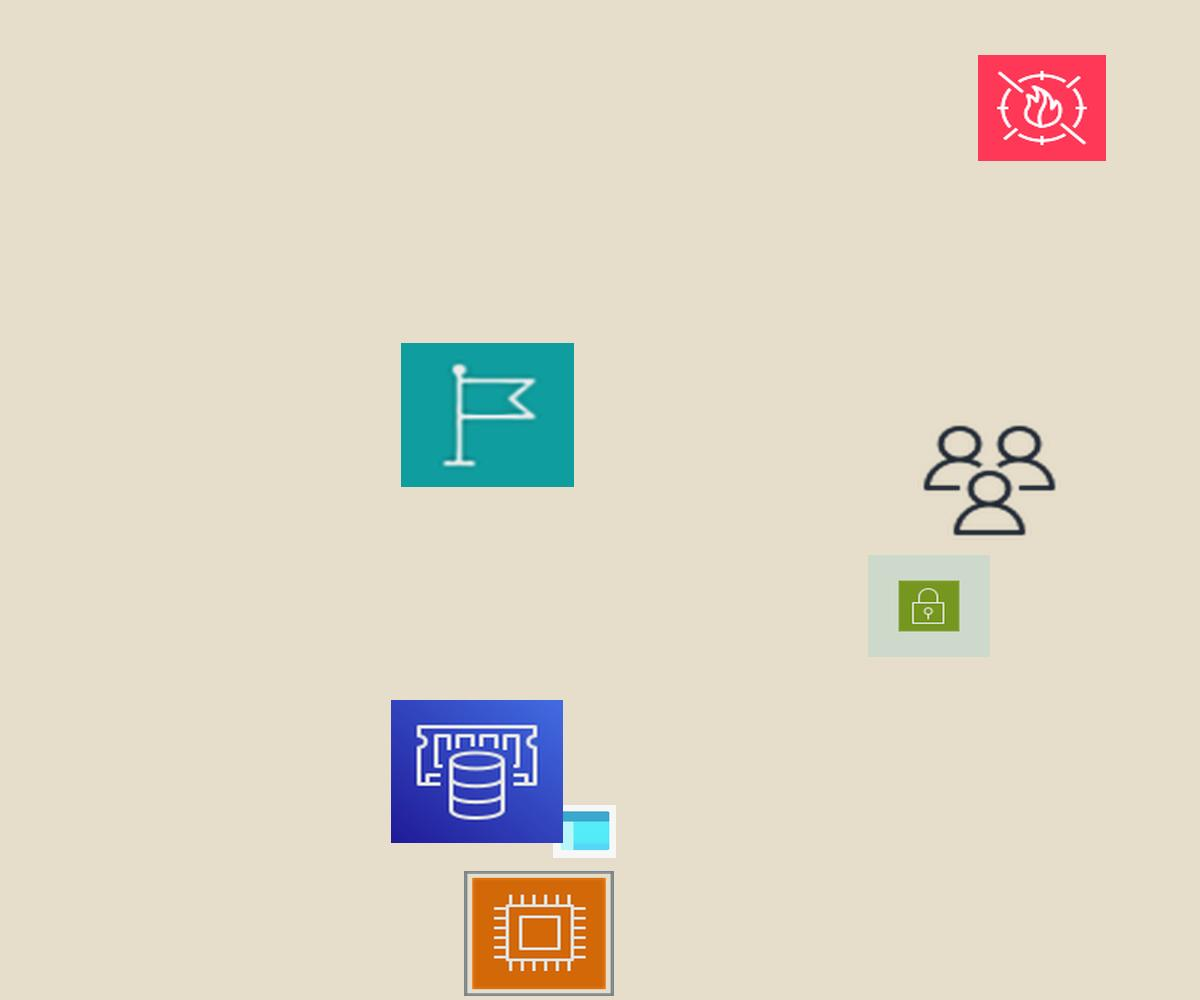AWS-Category_Compute: (464, 871, 614, 996)
AWS-ElastiCache: (391, 700, 563, 843)
AWS-Public-subnet: (868, 555, 990, 657)
AWS-Region: (401, 343, 574, 487)
AWS-Res_Users: (918, 421, 1061, 540)
AWS-WAF: (978, 55, 1106, 161)
Azure_management-portal: (553, 805, 616, 858)
